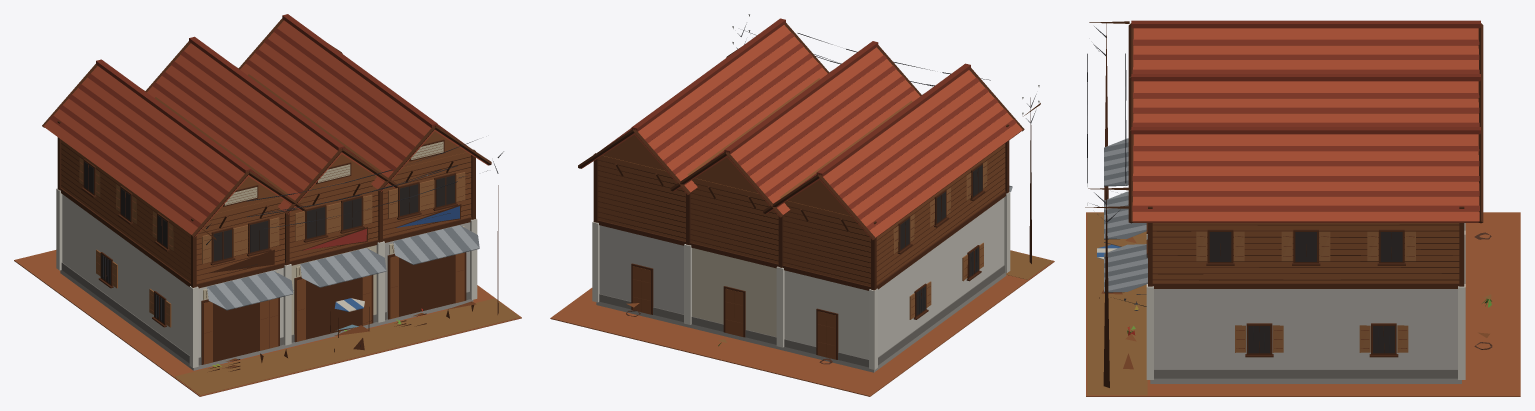
File: shop_3.glb
3 views of the same model, side by side, from view 1: azimuth 30°, elevation 25°; view 2: azimuth 150°, elevation 25°; view 3: azimuth 270°, elevation 25° (orthographic). The views are drawn at different scales.
Parts seen in each view (by area): view 1: body, windows; view 2: body, windows; view 3: body, windows.
Part boxes in pixels (x1,y1,x2,y2): body: [14, 14, 521, 396]; windows: [84, 161, 454, 322]; body: [550, 14, 1054, 396]; windows: [900, 165, 982, 315]; body: [1085, 20, 1520, 396]; windows: [1134, 232, 1402, 353].
Bounding box in the file's own units: 15.9 × 9.44 × 16.
